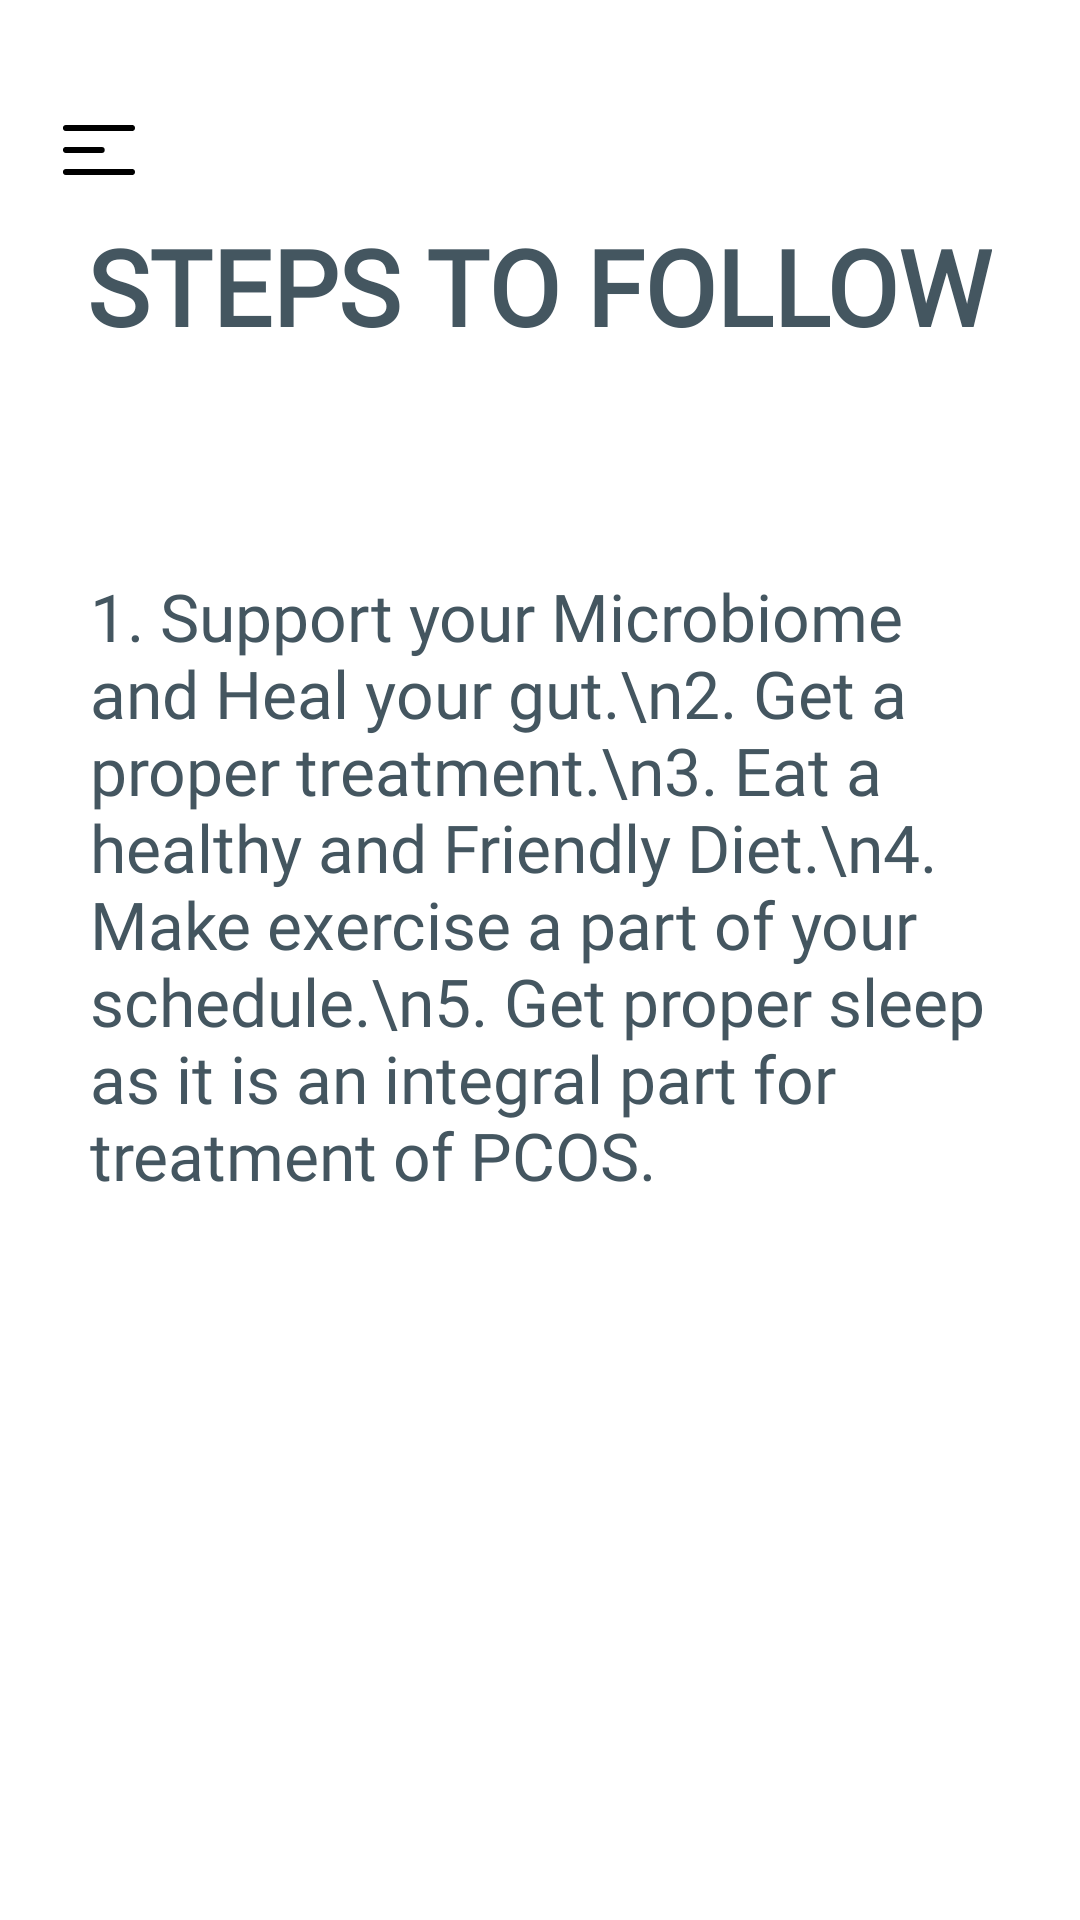

Where icons sit on this 1080 × 1920 app screen, as (x1, y1, x2, y2):
hamburger: (63, 125, 135, 175)
